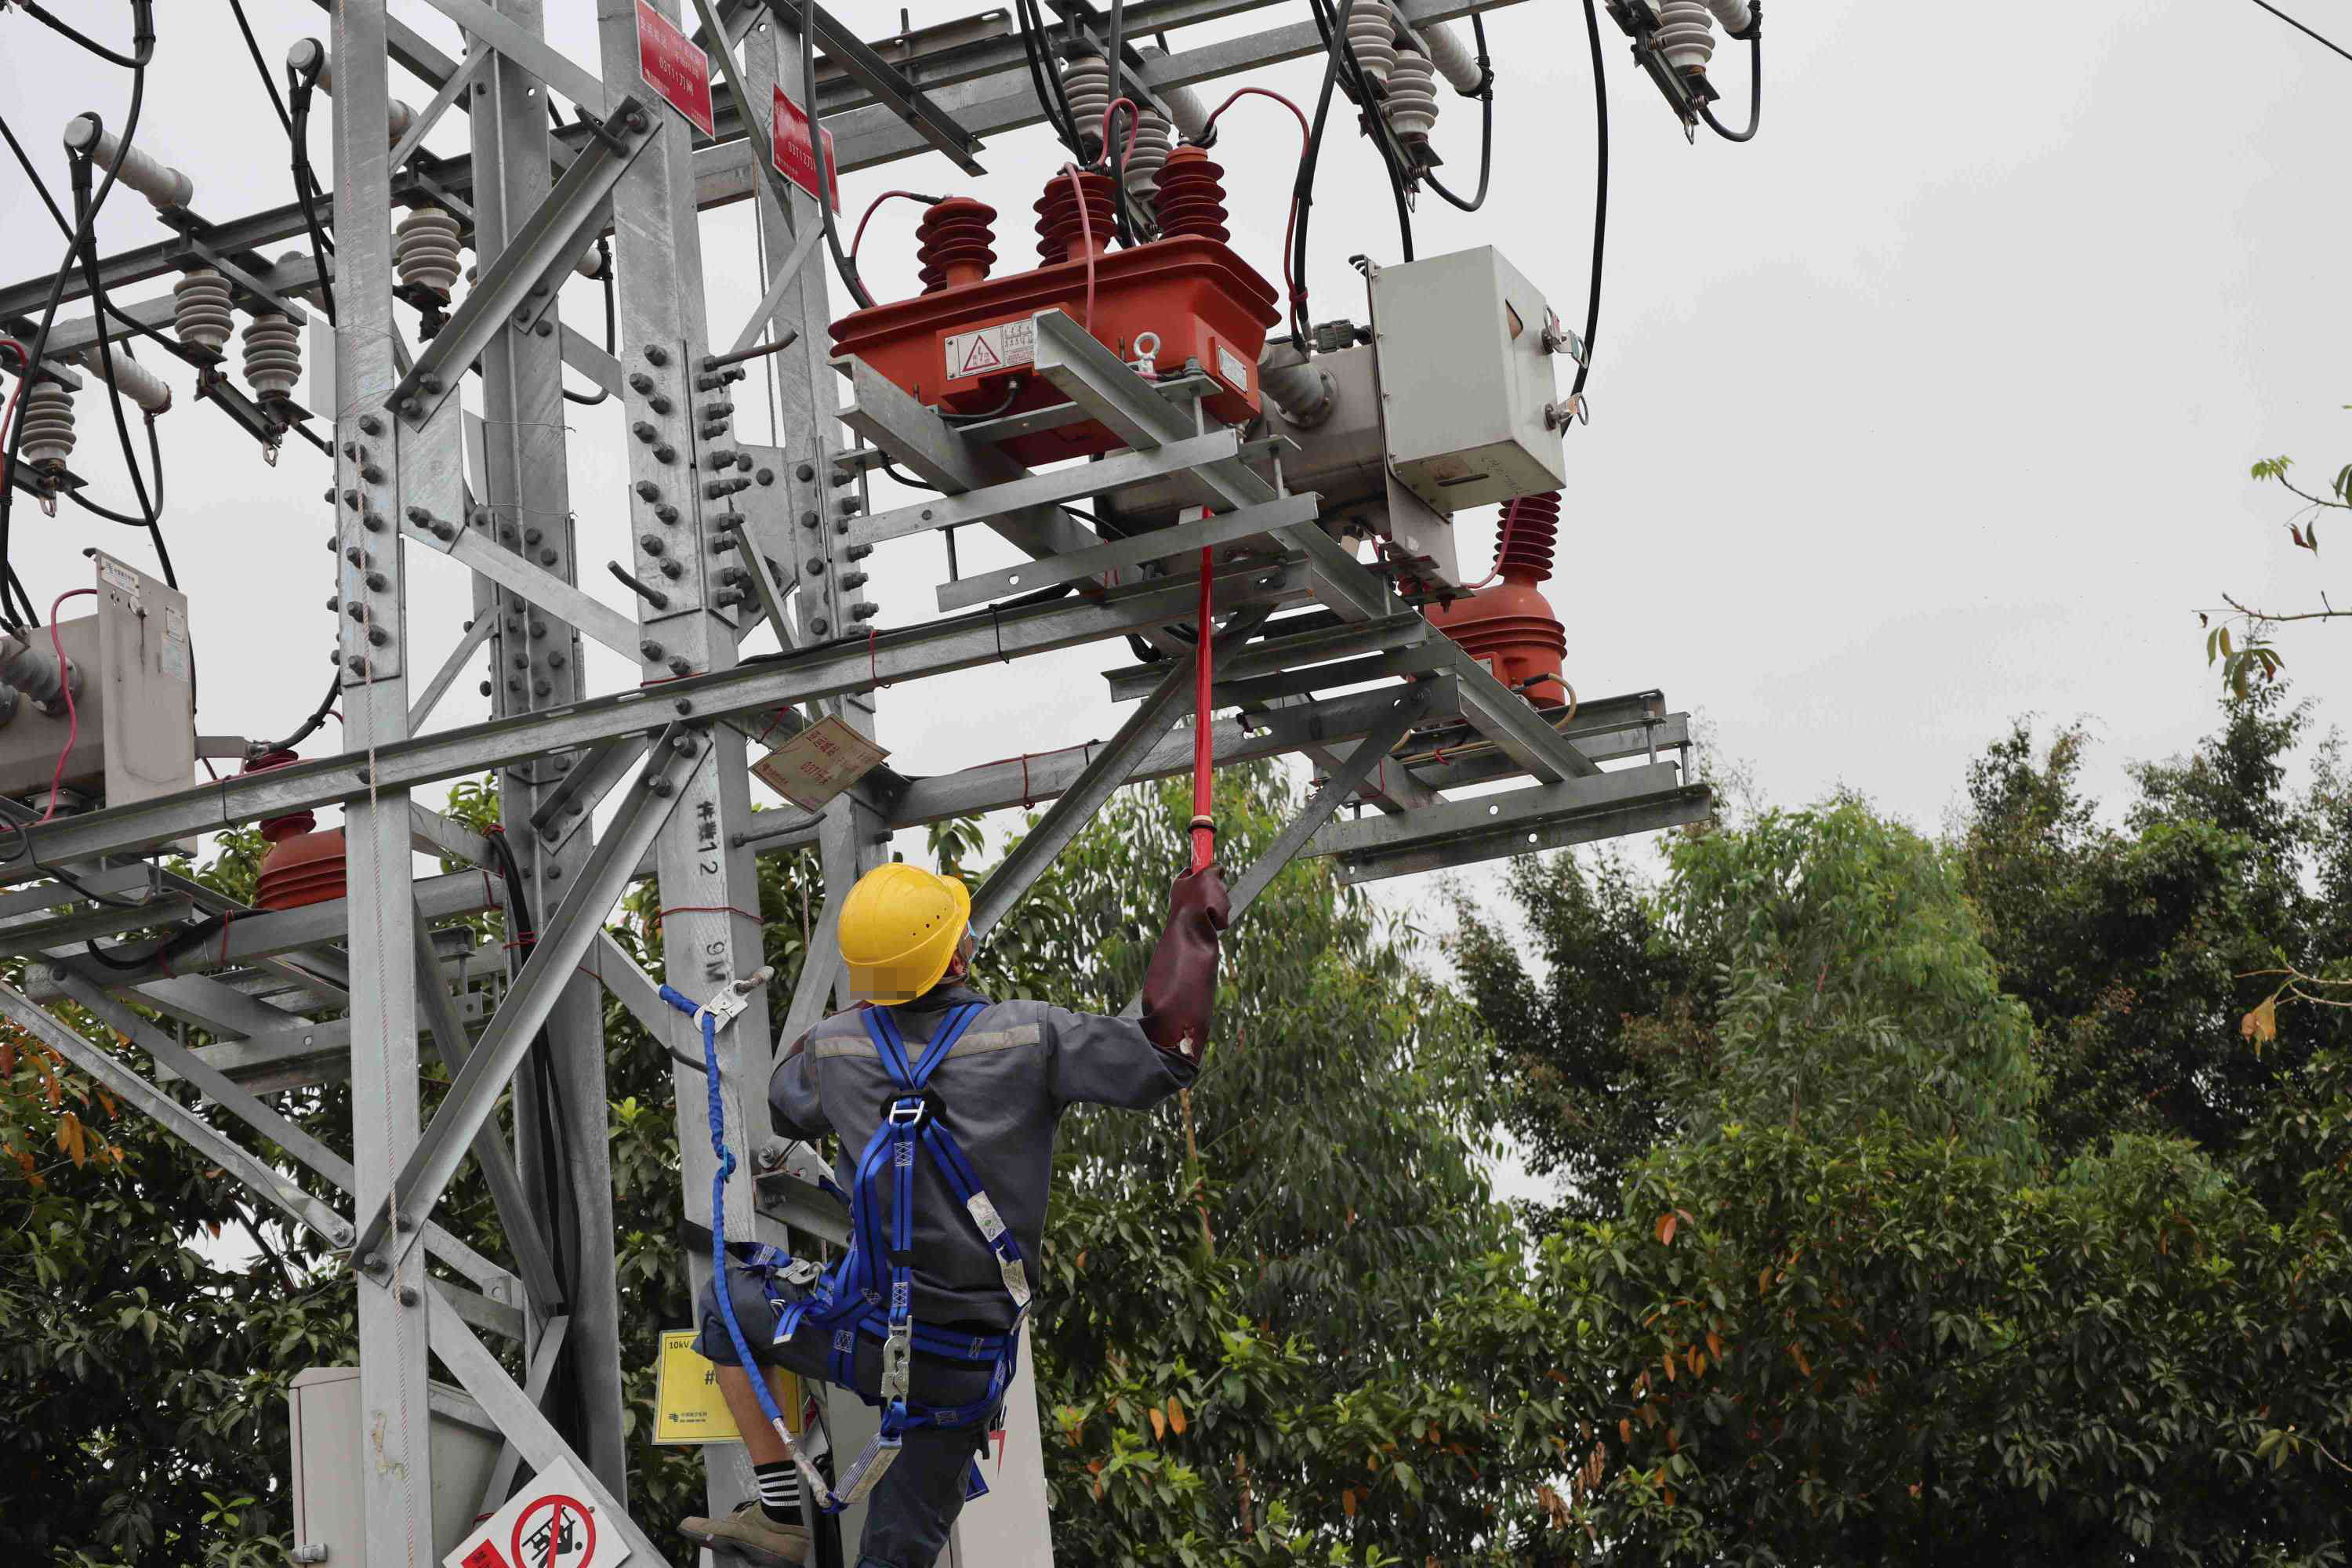downsuit: (689, 1289, 1021, 1568)
halt: (836, 858, 985, 1009)
inear: (946, 934, 971, 984)
longglove: (1135, 869, 1241, 1054)
person: (679, 851, 1211, 1568)
safebelt: (643, 965, 1051, 1540)
testrod: (1188, 495, 1221, 874)
upsuit: (765, 996, 1148, 1287)
wrongbottom: (699, 1294, 804, 1479)
